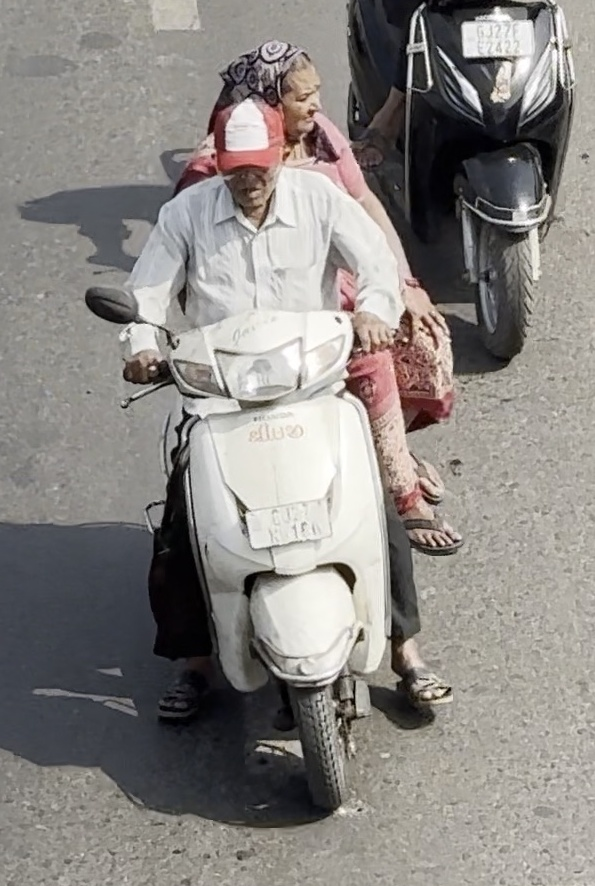BikeWithRider: (81, 36, 458, 814)
NoHelmet: (238, 36, 332, 146), (209, 95, 292, 212)
